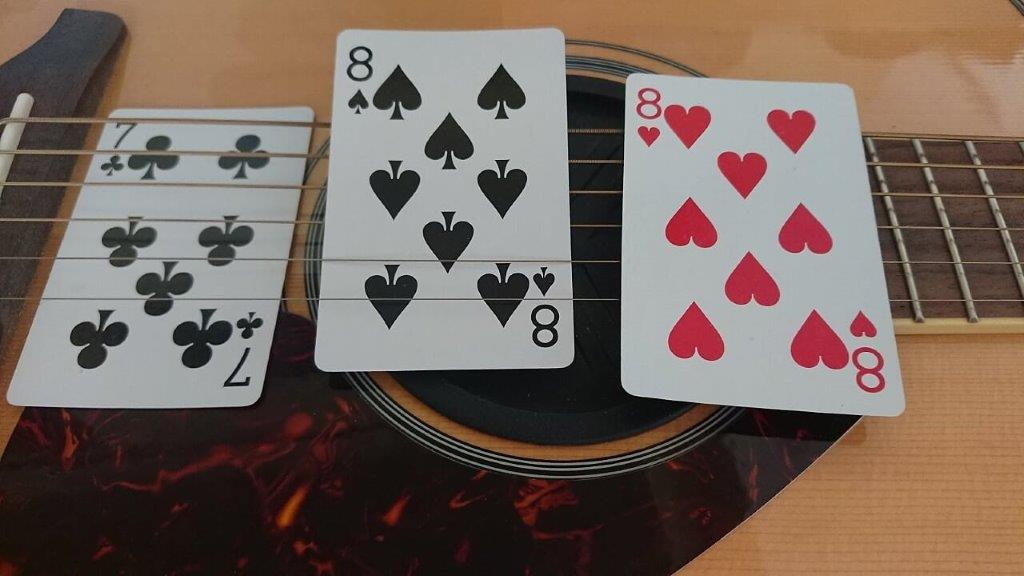7C: (96, 120, 141, 180)
8H: (631, 83, 665, 151)
8S: (343, 42, 375, 117)
